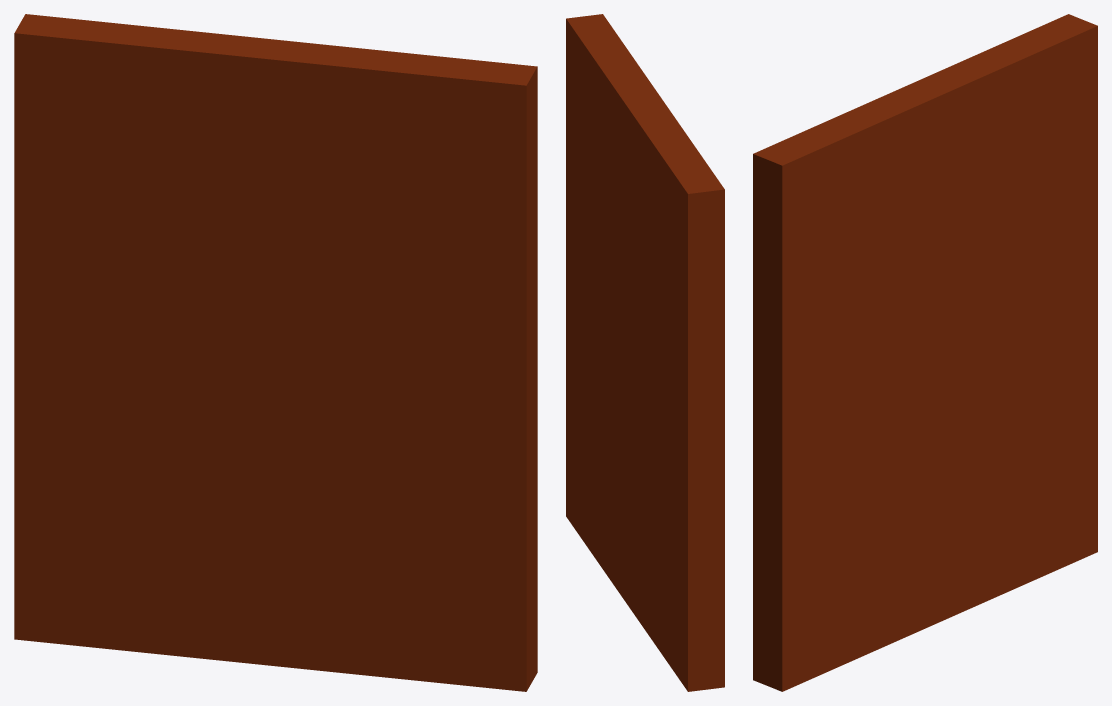
3 renders of one model, left to right at view 1: azimuth 30°, elevation 25°; view 2: azimuth 150°, elevation 25°; view 3: azimuth 270°, elevation 25°, orthographic. The views are drawn at different scales.
Parts seen in each view (by area): view 1: Cube; view 2: Cube; view 3: Cube.
Boxes of the visible parts, box(x1,y1,x2,y2) form: Cube: box(14, 14, 537, 691); Cube: box(566, 14, 724, 691); Cube: box(753, 14, 1097, 691).
Size of the model in its own units: 515 by 833 by 495.
